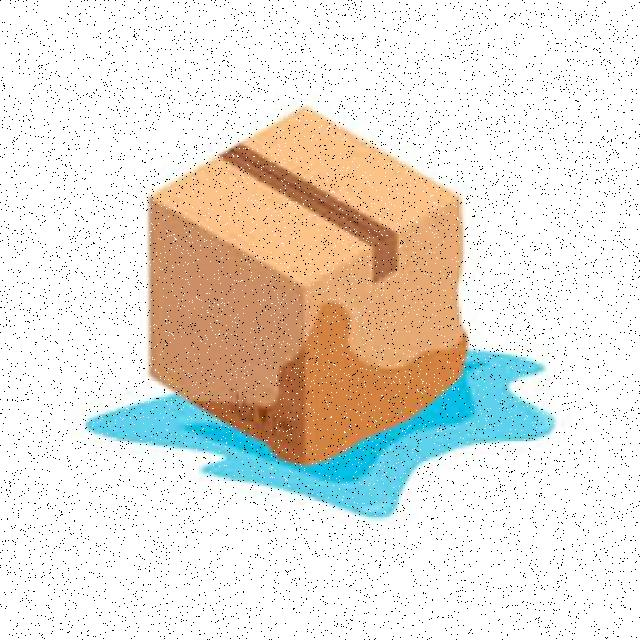defect: (130, 97, 468, 466)
